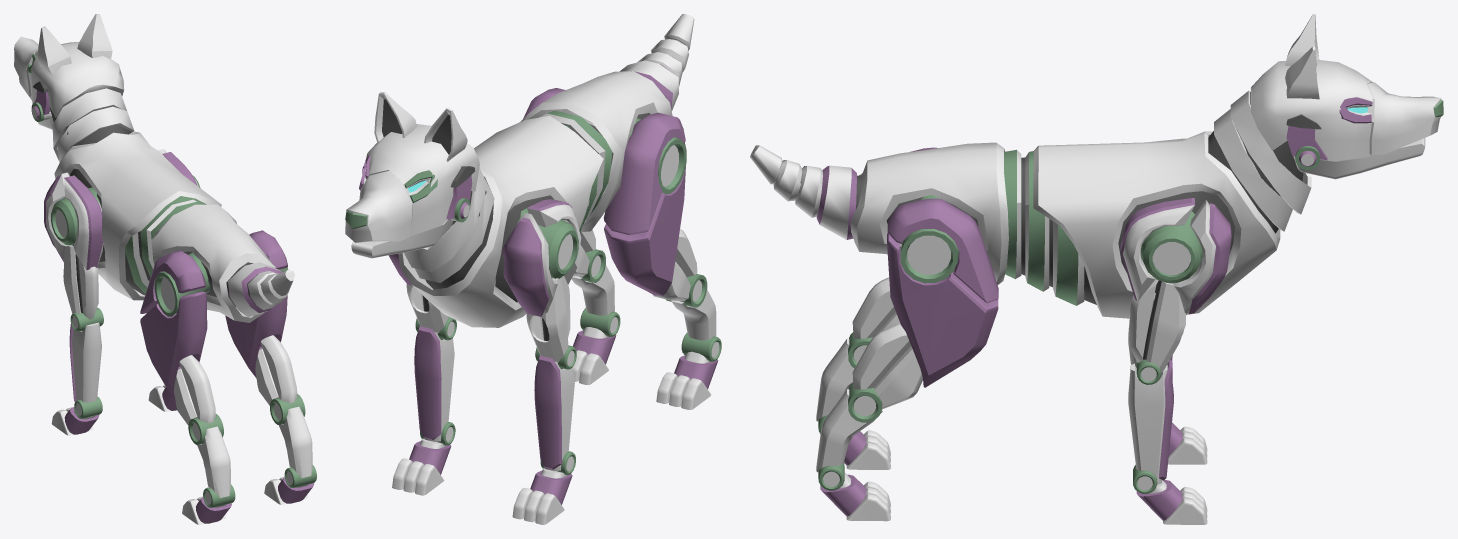
File: RobodogSimple.fbx
The picture shows the model from 3 angles, left to right: view 1: azimuth 30°, elevation 25°; view 2: azimuth 150°, elevation 25°; view 3: azimuth 270°, elevation 25°; orthographic projection. The views are drawn at different scales.
Visible parts, largest first — view 1: polySurface217, polySurface265, polySurface244, polySurface264, polySurface266, polySurface278, polySurface251, polySurface276, polySurface242, polySurface231, polySurface246, polySurface284 (+30 smaller); view 2: polySurface217, polySurface265, polySurface264, polySurface251, polySurface244, polySurface270, polySurface281, polySurface272, polySurface255, polySurface231, polySurface246, polySurface282 (+34 smaller); view 3: polySurface217, polySurface265, polySurface266, polySurface264, polySurface269, polySurface246, polySurface270, polySurface250, polySurface231, polySurface279, polySurface284, polySurface220 (+28 smaller).
Part boxes in pixels (<box>): polySurface217: <box>54,131,221,300</box>; polySurface265: <box>151,204,275,322</box>; polySurface244: <box>140,291,207,398</box>; polySurface264: <box>28,41,124,117</box>; polySurface266: <box>225,271,287,378</box>; polySurface278: <box>72,322,101,402</box>; polySurface251: <box>140,250,205,313</box>; polySurface276: <box>279,406,312,478</box>; polySurface242: <box>197,426,230,497</box>; polySurface231: <box>52,88,126,160</box>; polySurface246: <box>50,88,261,306</box>; polySurface284: <box>57,106,134,162</box>; polySurface217: <box>398,116,603,327</box>; polySurface265: <box>520,71,672,232</box>; polySurface264: <box>360,124,479,236</box>; polySurface251: <box>603,112,685,234</box>; polySurface244: <box>604,142,686,295</box>; polySurface270: <box>345,170,412,242</box>; polySurface281: <box>502,217,549,316</box>; polySurface272: <box>414,326,441,440</box>; polySurface255: <box>534,355,562,469</box>; polySurface231: <box>404,172,486,272</box>; polySurface246: <box>425,38,686,302</box>; polySurface282: <box>526,278,568,362</box>; polySurface217: <box>1033,131,1280,318</box>; polySurface265: <box>850,142,1008,284</box>; polySurface266: <box>887,233,998,387</box>; polySurface264: <box>1250,59,1372,161</box>; polySurface269: <box>887,198,998,303</box>; polySurface246: <box>800,92,1303,304</box>; polySurface270: <box>1367,82,1441,155</box>; polySurface250: <box>1128,363,1167,484</box>; polySurface231: <box>1230,90,1311,214</box>; polySurface279: <box>1140,211,1202,282</box>; polySurface284: <box>1214,109,1292,231</box>; polySurface220: <box>900,194,959,283</box>.
Size of the model in its own units: 99.35 by 255 by 352.
